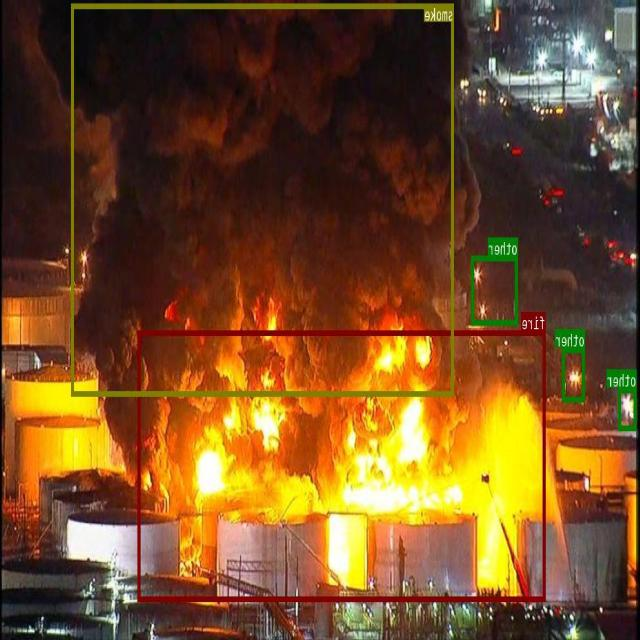fire: (138, 330, 546, 600)
other: (472, 255, 518, 324), (563, 347, 586, 401), (619, 387, 637, 430)
smoke: (72, 3, 454, 395)
